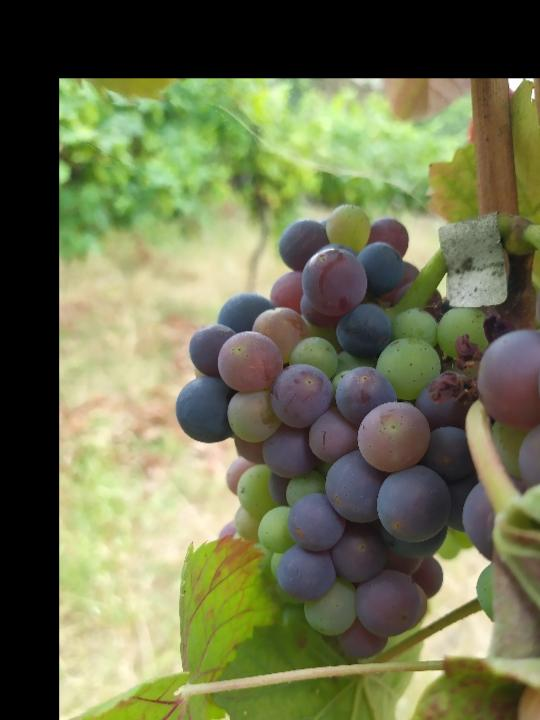grape: (171, 200, 474, 662)
